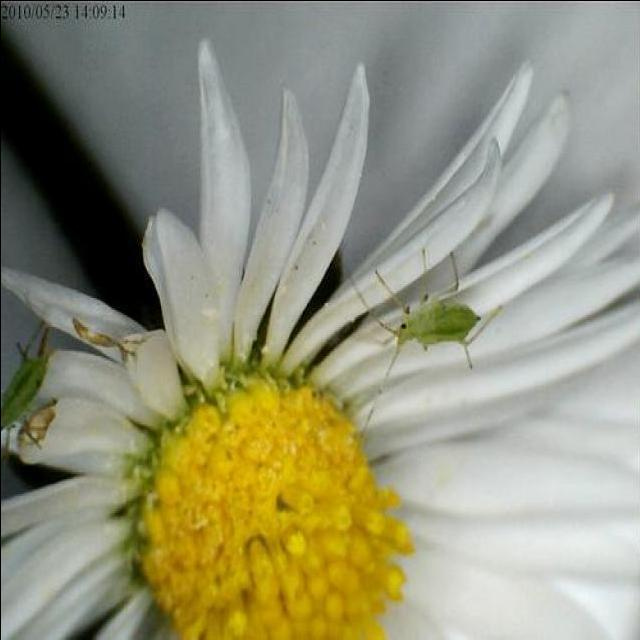aphid: (364, 266, 496, 384), (0, 326, 61, 455)
